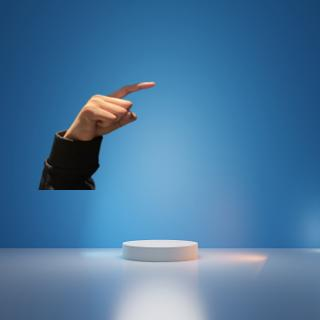WHY: (63, 70, 161, 140)
